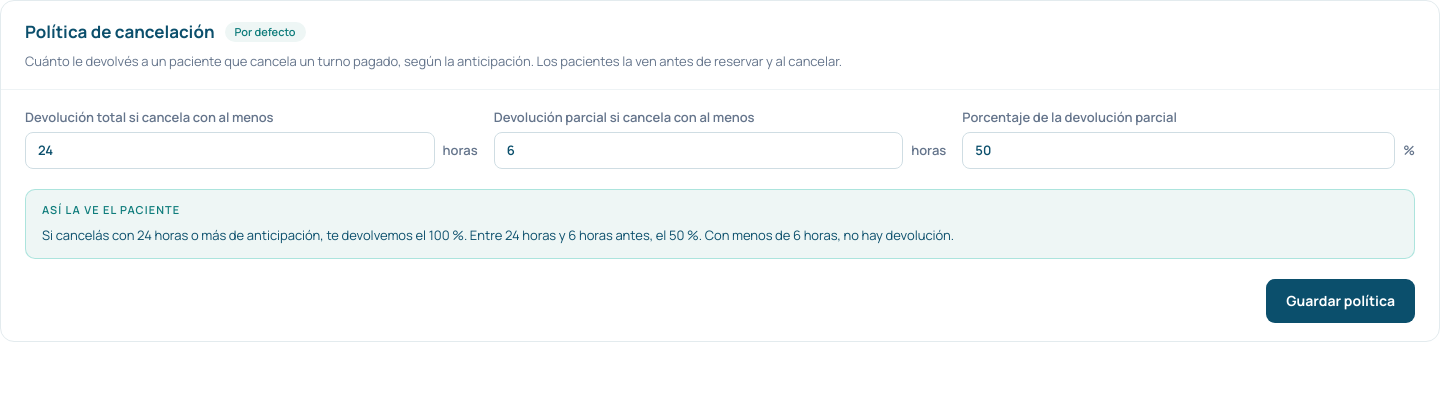
Test case: CancellationPolicyForm › muestra el error del backend si el guardado falla
The width and height of the screenshot is (1440, 420).
What coordinates should you click on to do the following:
click the button "Guardar política"
I would click on:
 (1341, 301)
Its box is [1266,279,1415,323].
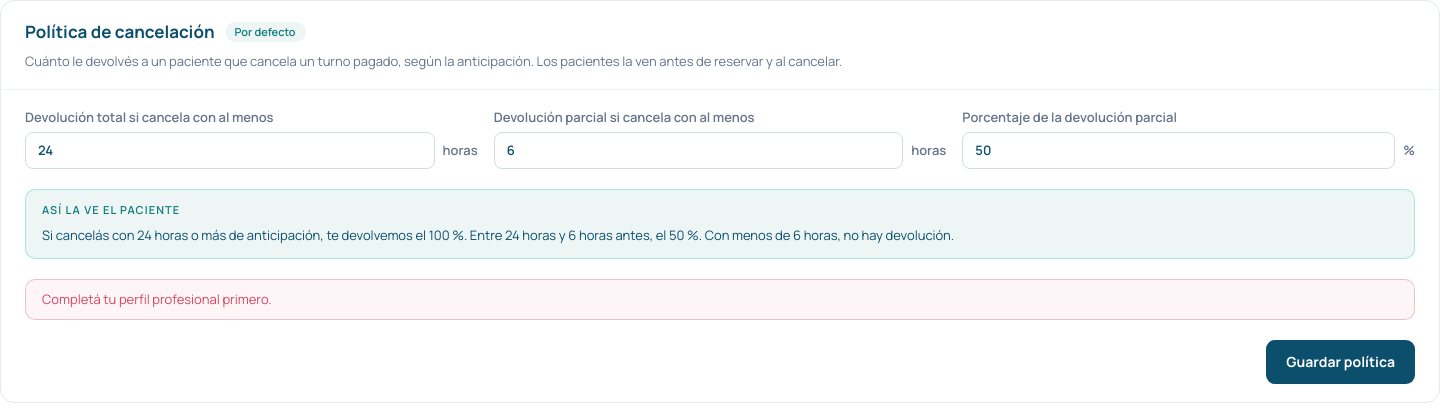
expect the message reads "Completá tu perfil profesional primero.": met, box [42,290,272,308]
